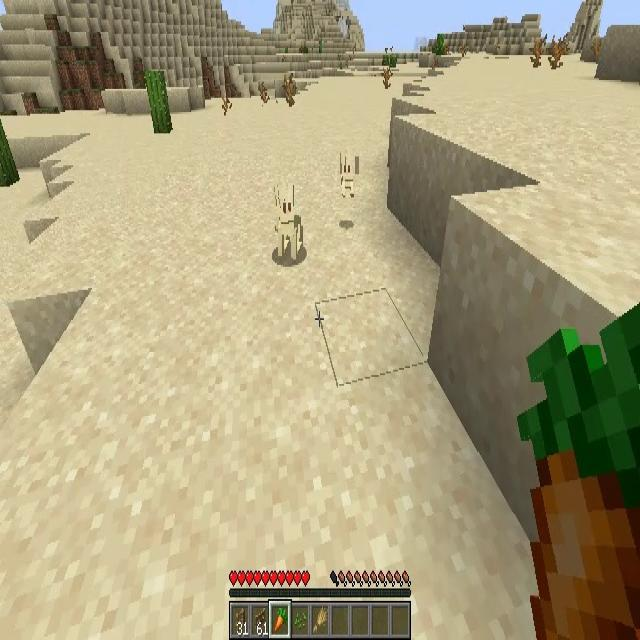rabbit: (275, 183, 302, 265), (340, 149, 355, 198)
